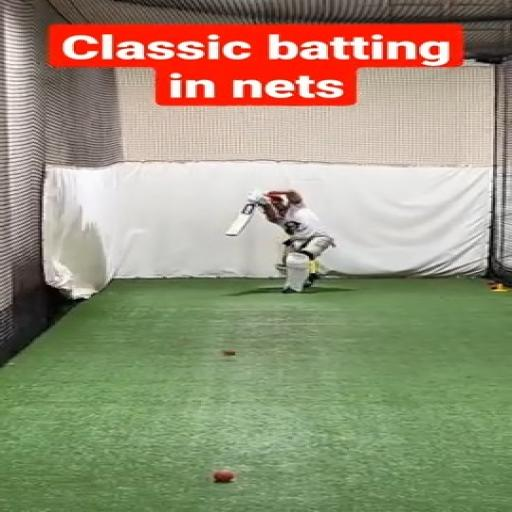Cricket bat: (226, 204, 254, 235)
